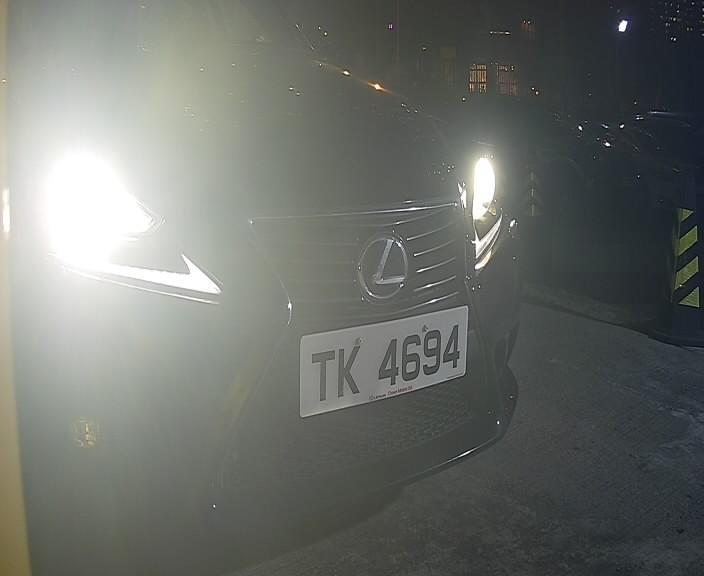License Plate: (302, 304, 469, 415)
